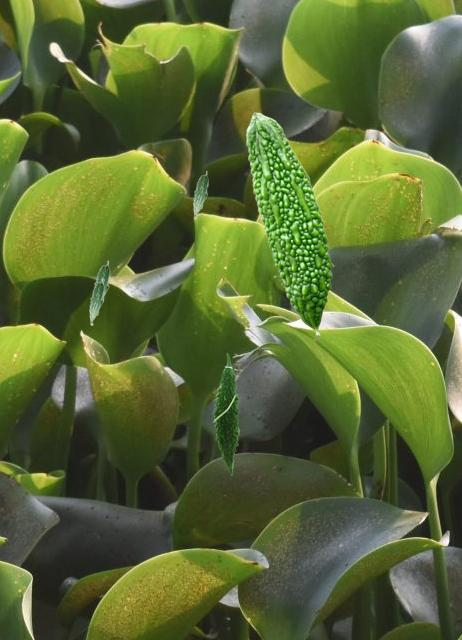ampalaya: (245, 112, 335, 339), (211, 352, 243, 475), (192, 170, 209, 219), (89, 278, 104, 326), (94, 260, 110, 300)
